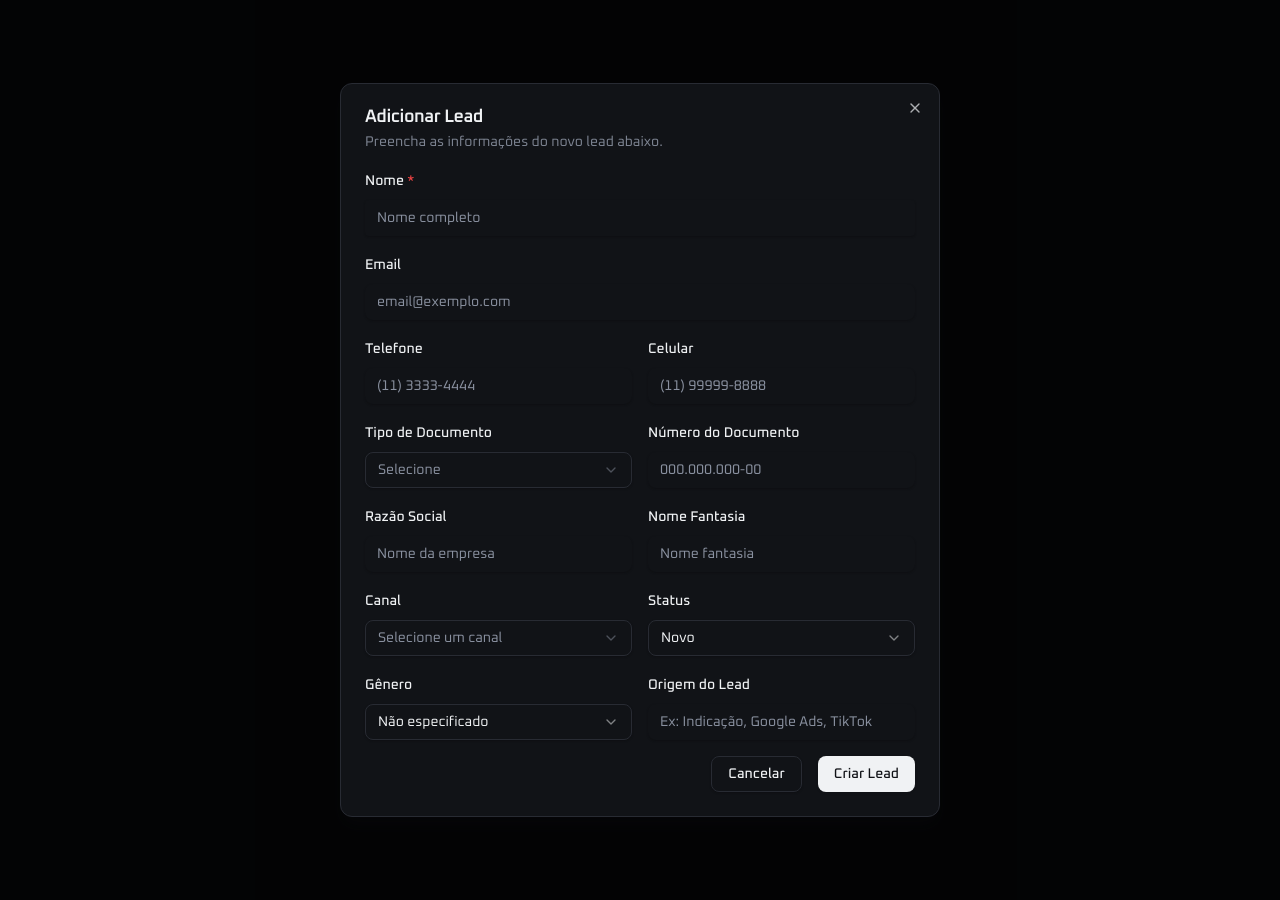
Scenario: LeadFormDialog › Create Mode › should show validation error for invalid email
The width and height of the screenshot is (1280, 900).
Type "invalid-email" into the field labelled "Email" at (640, 302), box [365,284,915,320]
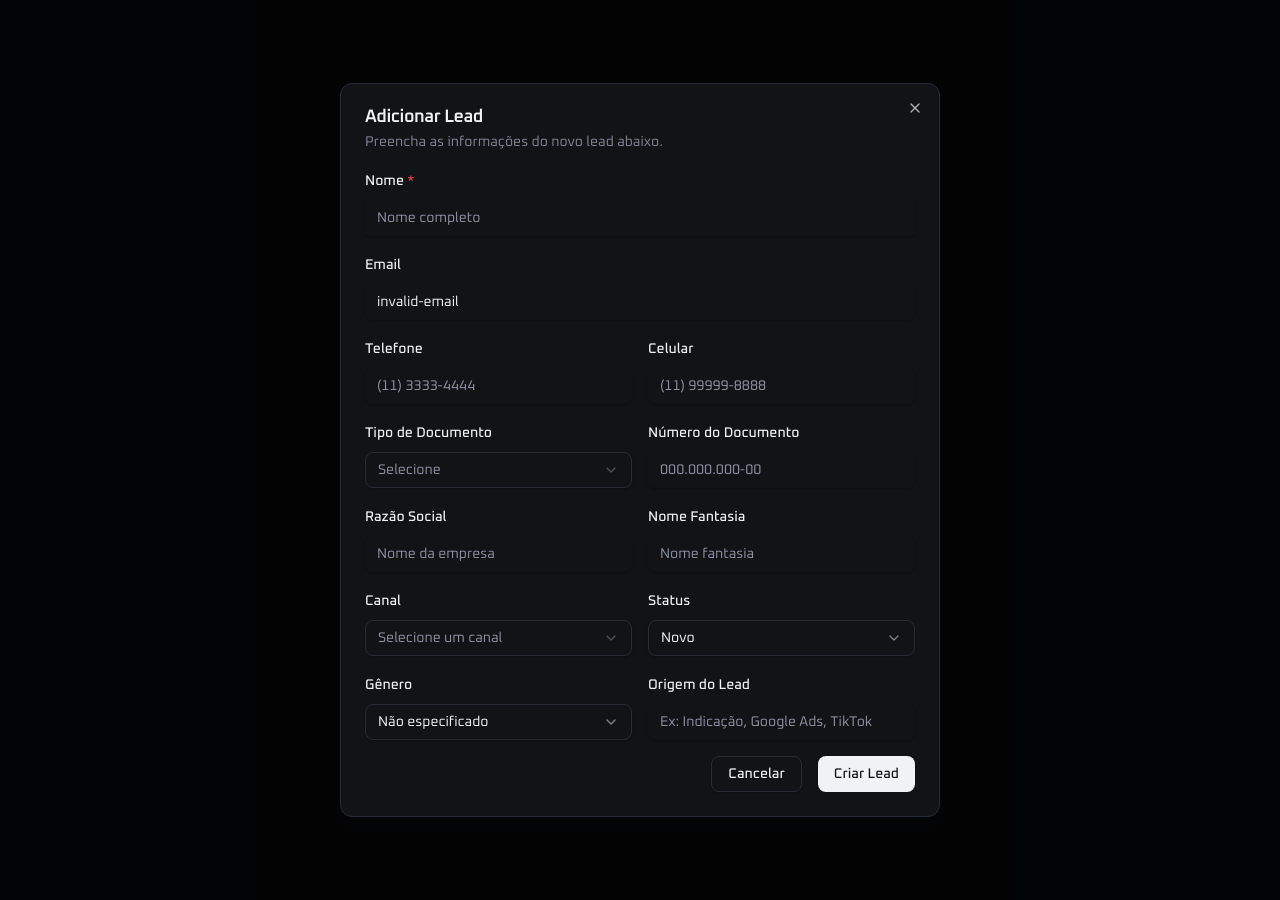
Leave the field labelled "Email", box [365,284,915,320]
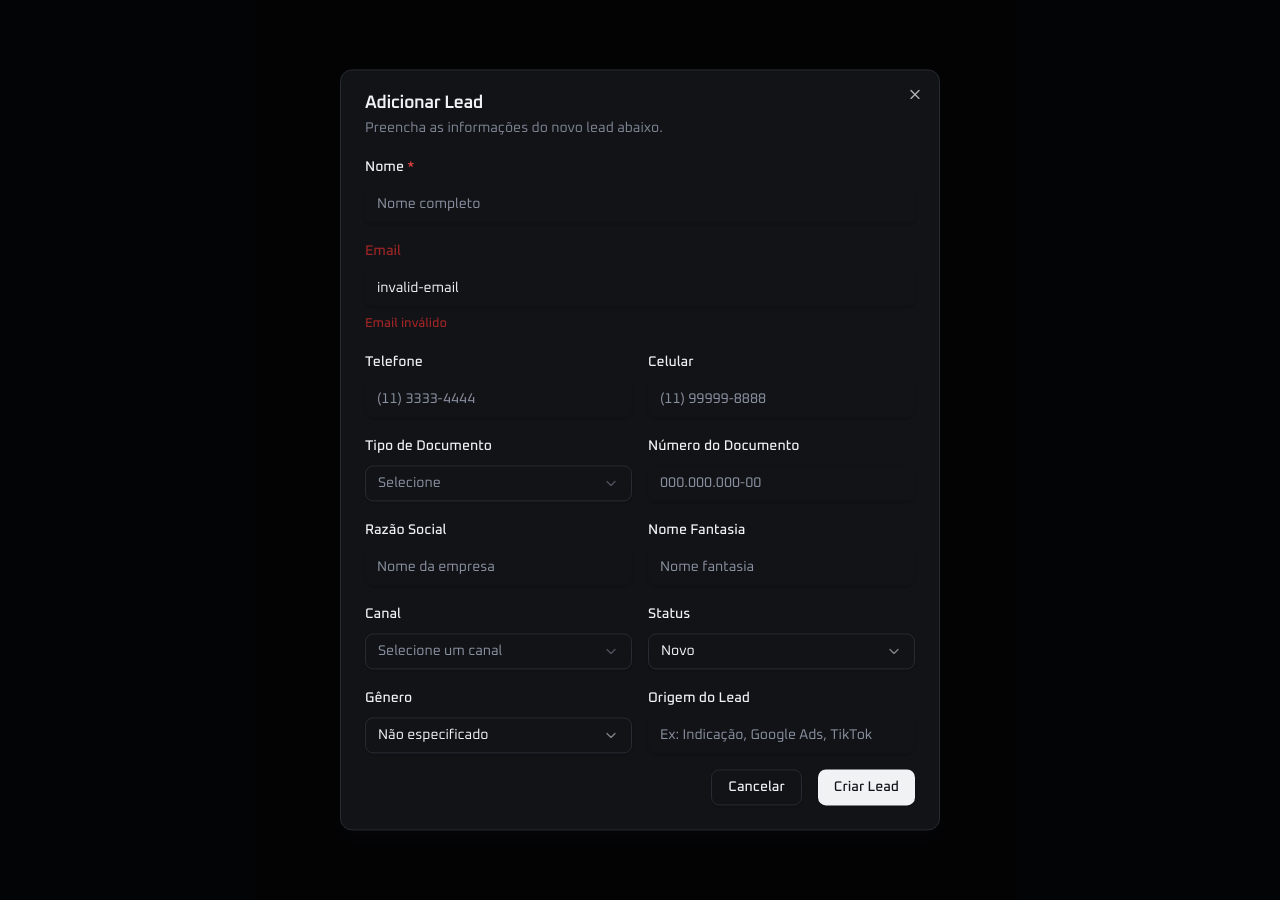
Check: the text "Email inválido" is shown, box [365,317,447,330]
